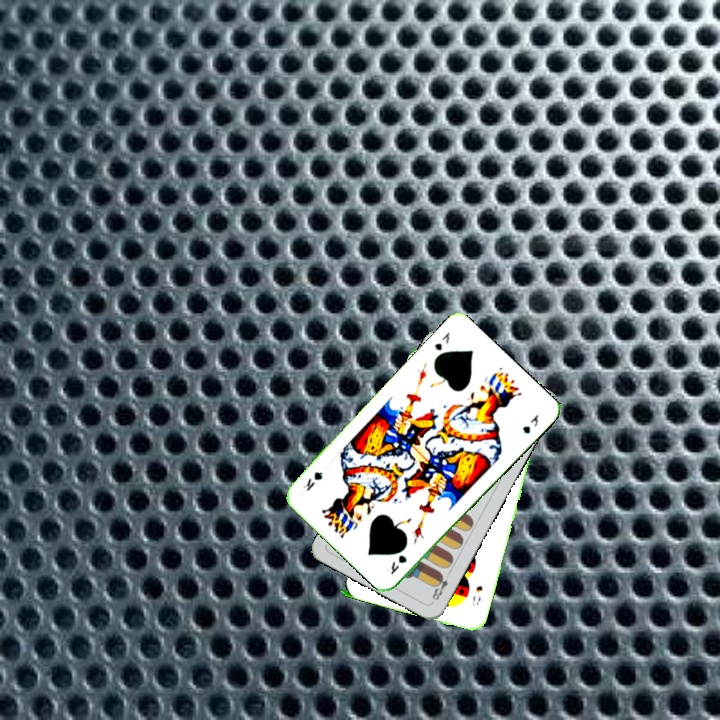E8: (428, 569, 451, 605)
GK: (386, 551, 410, 577), (431, 328, 452, 353)
S8: (468, 581, 485, 609)
